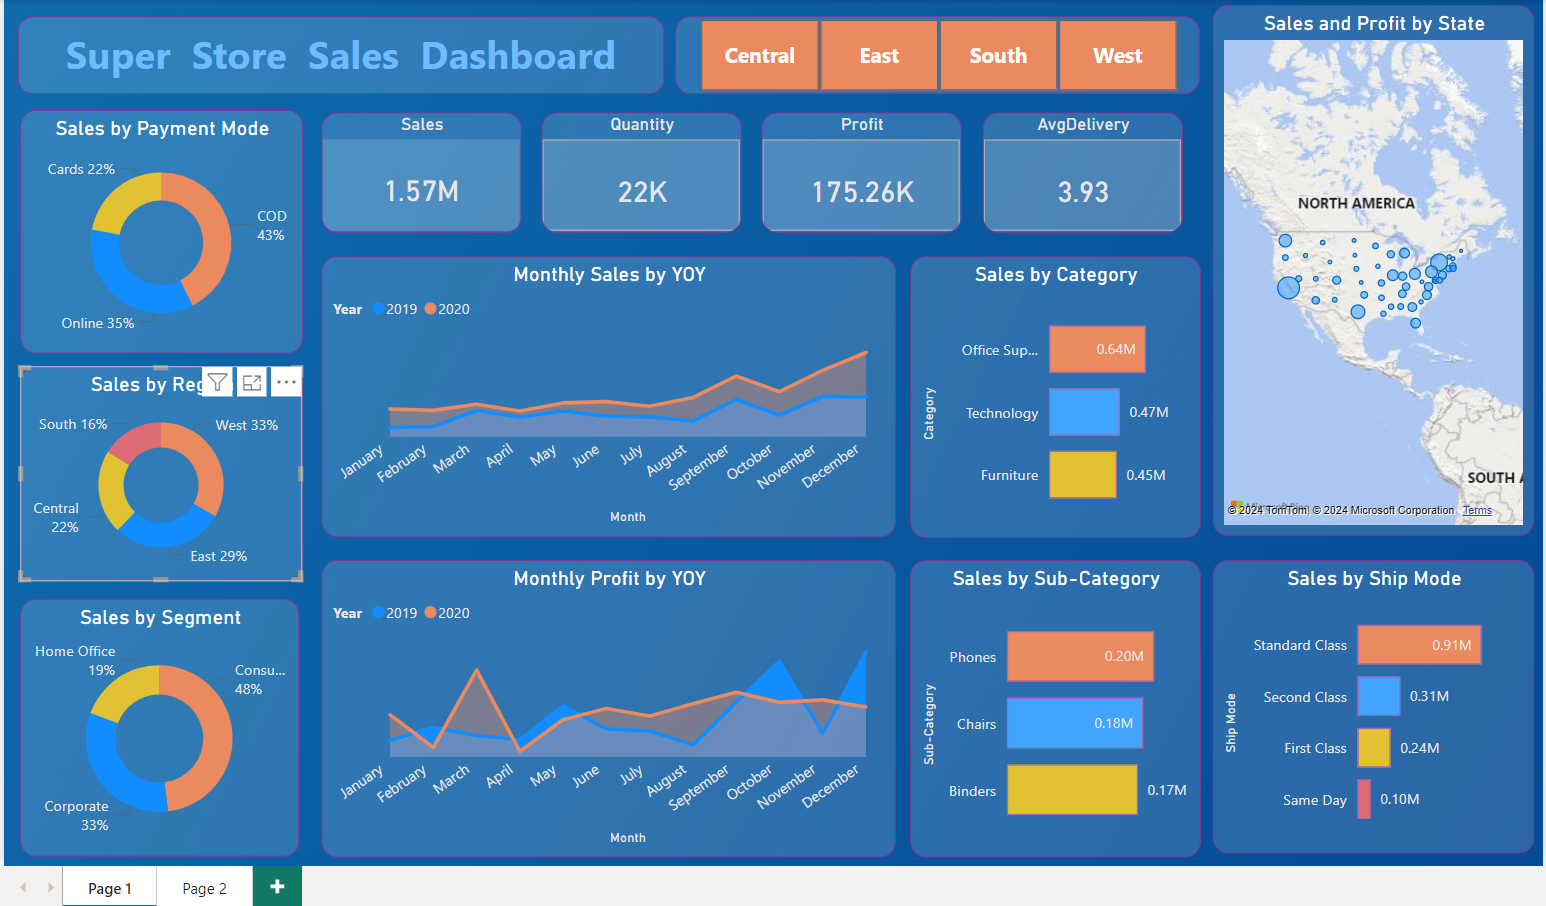

The dashboard page shown, as its layout file describes it:
{"tool":"powerbi","page":{"name":"Sales Dashboard","canvas":[1280,720],"ordinal":0},"visuals":[{"type":"barChart","title":"Sales by Category","fields":{"Category":["SuperStore_Sales_Dataset.Category"],"Y":["Sum(SuperStore_Sales_Dataset.Sales)"]},"box":[753.3,212.7,241.5,234.6],"z":0},{"type":"barChart","title":"Sales by Sub-Category","fields":{"Category":["SuperStore_Sales_Dataset.Sub-Category"],"Y":["Sum(SuperStore_Sales_Dataset.Sales)"]},"box":[753.3,465.2,241.5,247],"z":1000},{"type":"barChart","title":"Sales by Ship Mode","fields":{"Category":["SuperStore_Sales_Dataset.Ship Mode"],"Y":["Sum(SuperStore_Sales_Dataset.Sales)"]},"box":[1004.5,465.2,267.6,244.3],"z":2000},{"type":"areaChart","title":"Monthly Sales by YOY","fields":{"Y":["Sum(SuperStore_Sales_Dataset.Sales)"],"Category":["SuperStore_Sales_Dataset.Order Date.Variation.Date Hierarchy.Month"],"Series":["SuperStore_Sales_Dataset.Order Date.Variation.Date Hierarchy.Year"]},"box":[263.5,212.7,477.5,233.3],"z":3000},{"type":"areaChart","title":"Monthly Profit by YOY","fields":{"Category":["SuperStore_Sales_Dataset.Order Date.Variation.Date Hierarchy.Month"],"Series":["SuperStore_Sales_Dataset.Order Date.Variation.Date Hierarchy.Year"],"Y":["Sum(SuperStore_Sales_Dataset.Profit)"]},"box":[263.5,465.2,477.5,247],"z":4000},{"type":"map","title":"Sales and Profit by State","fields":{"Category":["SuperStore_Sales_Dataset.State"],"Size":["Sum(SuperStore_Sales_Dataset.Sales)"]},"box":[1004.5,4.1,267.6,441.9],"z":5000},{"type":"donutChart","title":"Sales by Segment","fields":{"Y":["Sum(SuperStore_Sales_Dataset.Sales)"],"Category":["SuperStore_Sales_Dataset.Segment"]},"box":[13.7,498.1,231.9,214.1],"z":6000},{"type":"donutChart","title":"Sales by Region","fields":{"Y":["Sum(SuperStore_Sales_Dataset.Sales)"],"Category":["SuperStore_Sales_Dataset.Region"]},"box":[14,304.7,234.9,179.1],"z":7000},{"type":"donutChart","title":"Sales by Payment Mode","fields":{"Y":["Sum(SuperStore_Sales_Dataset.Sales)"],"Category":["SuperStore_Sales_Dataset.Payment Mode"]},"box":[14,91.9,234.9,202.3],"z":8000},{"type":"slicer","fields":{"Values":["SuperStore_Sales_Dataset.Region"]},"box":[558.5,13.7,436.4,64.5],"z":9000},{"type":"textbox","box":[11,13.7,537.9,64.5],"z":10000},{"type":"cardVisual","title":"Sales","fields":{"Data":["Sum(SuperStore_Sales_Dataset.Sales)"]},"box":[263.5,93.3,166,100.2],"z":11000},{"type":"cardVisual","title":"Quantity","fields":{"Data":["Sum(SuperStore_Sales_Dataset.Quantity)"]},"box":[447.3,93.3,166,100.2],"z":12000},{"type":"cardVisual","title":"Profit","fields":{"Data":["Sum(SuperStore_Sales_Dataset.Profit)"]},"box":[629.8,93.3,166,100.2],"z":13000},{"type":"cardVisual","title":"AvgDelivery","fields":{"Data":["Avg(SuperStore_Sales_Dataset.AvgDelivery)"]},"box":[813.7,93.3,166,100.2],"z":14000}]}

Visuals, with their boxes on the page's 1280x720 design canvas (x1, y1, x2, y2). These are canvas units, not pixel positions in the 1546x906 screenshot, which may show the page scaled, cropped or inside an application window:
"Sales by Category" barChart: region(753, 213, 995, 447)
"Sales by Sub-Category" barChart: region(753, 465, 995, 712)
"Sales by Ship Mode" barChart: region(1004, 465, 1272, 710)
"Monthly Sales by YOY" areaChart: region(264, 213, 741, 446)
"Monthly Profit by YOY" areaChart: region(264, 465, 741, 712)
"Sales and Profit by State" map: region(1004, 4, 1272, 446)
"Sales by Segment" donutChart: region(14, 498, 246, 712)
"Sales by Region" donutChart: region(14, 305, 249, 484)
"Sales by Payment Mode" donutChart: region(14, 92, 249, 294)
slicer - SuperStore_Sales_Dataset.Region: region(558, 14, 995, 78)
textbox: region(11, 14, 549, 78)
"Sales" cardVisual: region(264, 93, 430, 194)
"Quantity" cardVisual: region(447, 93, 613, 194)
"Profit" cardVisual: region(630, 93, 796, 194)
"AvgDelivery" cardVisual: region(814, 93, 980, 194)
